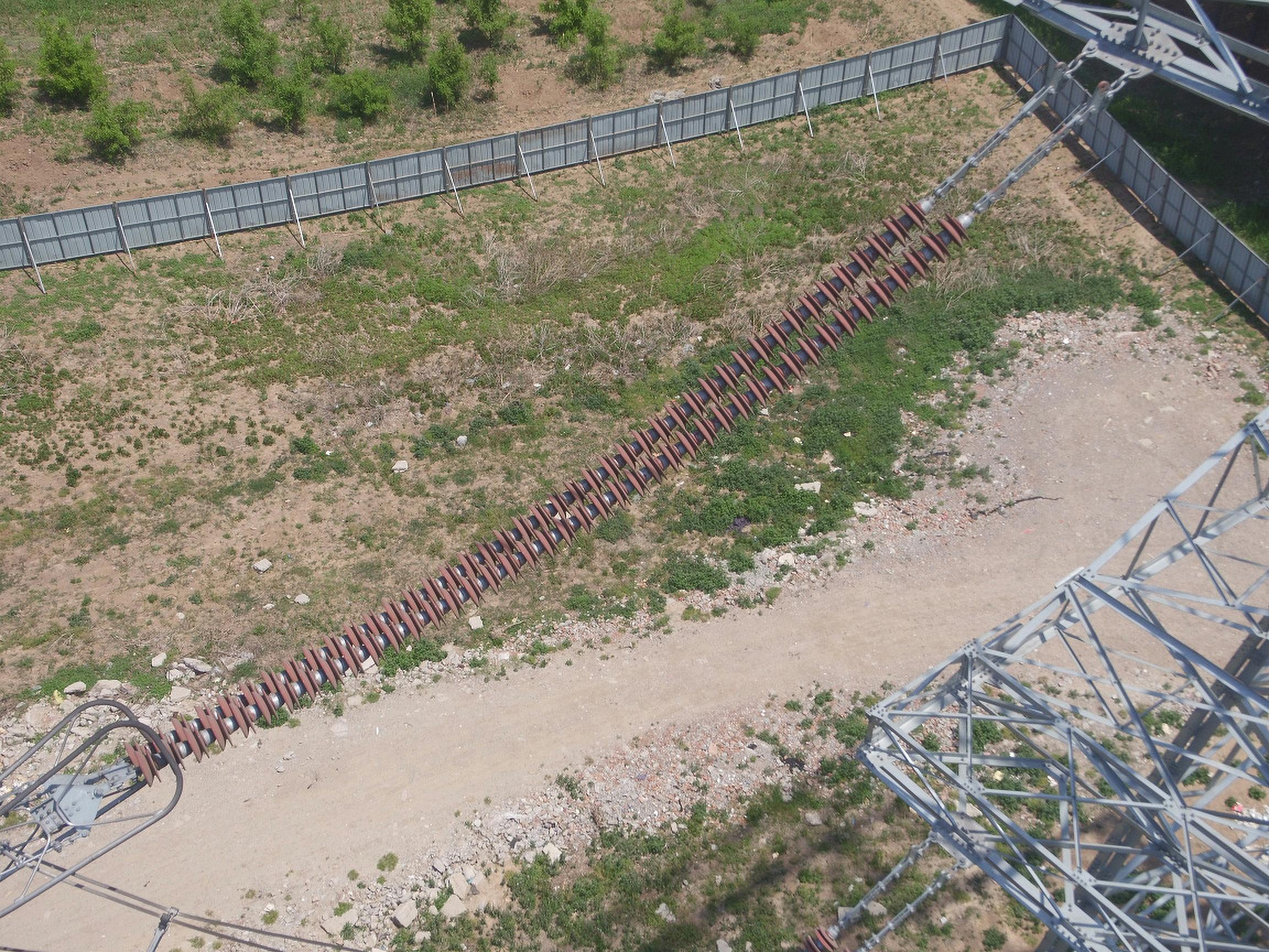insulator: (121, 191, 970, 789)
